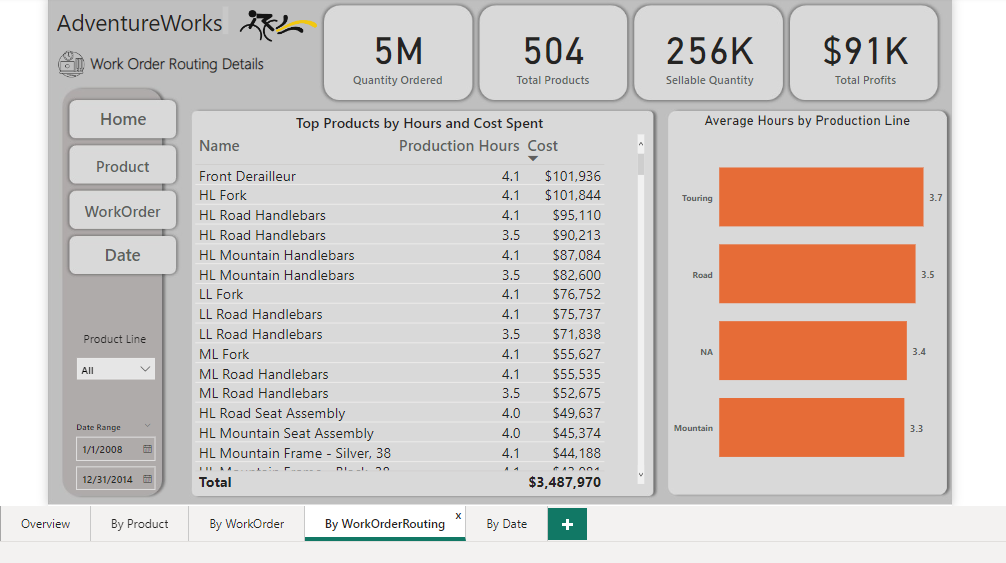

What the dashboard file says about the page in this screenshot:
{"tool":"powerbi","page":{"name":"By WorkOrderRouting","canvas":[1280,720],"ordinal":3},"visuals":[{"type":"tableEx","title":"Top Products by Hours and Cost Spent","fields":{"Values":["Production_Product.Name","Production_WorkOrderRouting.ActualResourceHrs","Sum(Production_WorkOrderRouting.ActualCost)"]},"box":[202.3,162.7,646.4,540.4],"z":0},{"type":"clusteredBarChart","title":"Average Hours by Production Line","fields":{"Category":["Production_Product.ProductLine"],"Y":["Avg(Production_WorkOrderRouting.ActualResourceHrs)"]},"box":[878.4,162.7,391.8,540.4],"z":1000},{"type":"textbox","box":[43.9,73.6,277.2,41],"z":2000},{"type":"card","fields":{"Values":["All Mesures.Total Units"]},"box":[609.7,8.5,209.4,141.5],"z":3000},{"type":"card","fields":{"Values":["All Mesures.Total Profits"]},"box":[1052.4,8.5,207.9,141.5],"z":4000},{"type":"card","fields":{"Values":["Sum(Production_WorkOrder.OrderQty)"]},"box":[390.4,8.5,209.4,141.5],"z":5000},{"type":"card","fields":{"Values":["All Measures.Sold Qty"]},"box":[828.9,8.5,213.6,141.5],"z":6000},{"type":"textbox","box":[7.1,8.5,253.2,50.9],"z":7000},{"type":"image","box":[260.3,8.5,127.3,65.1],"z":8000},{"type":"image","box":[0,69.3,66.5,50.9],"z":9000},{"type":"actionButton","title":"Active P","box":[31.1,140,149.9,62.2],"z":10000},{"type":"actionButton","title":"Active WO","box":[35.4,212.2,140,52.3],"z":11000},{"type":"actionButton","title":"Active WOR","box":[35.4,275.8,140,52.3],"z":12000},{"type":"actionButton","title":"Actice D","box":[35.4,333.8,140,59.4],"z":13000},{"type":"slicer","fields":{"Values":["Calendar.Date"]},"box":[26.9,594.1,131.6,110.3],"z":14000},{"type":"slicer","title":"Filter by Product Line","fields":{"Values":["Production_Product.ProductLine"]},"box":[31.1,500.7,130.1,53.8],"z":15000},{"type":"textbox","box":[26.9,464,130.1,36.8],"z":16000}]}

Visuals, with their boxes on the page's 1280x720 design canvas (x1, y1, x2, y2). These are canvas units, not pixel positions in the 1006x563 screenshot, which may show the page scaled, cropped or inside an application window:
"Top Products by Hours and Cost Spent" tableEx: (x1=202, y1=163, x2=849, y2=703)
"Average Hours by Production Line" clusteredBarChart: (x1=878, y1=163, x2=1270, y2=703)
textbox: (x1=44, y1=74, x2=321, y2=115)
card - All Mesures.Total Units: (x1=610, y1=8, x2=819, y2=150)
card - All Mesures.Total Profits: (x1=1052, y1=8, x2=1260, y2=150)
card - Sum(Production_WorkOrder.OrderQty): (x1=390, y1=8, x2=600, y2=150)
card - All Measures.Sold Qty: (x1=829, y1=8, x2=1042, y2=150)
textbox: (x1=7, y1=8, x2=260, y2=59)
image: (x1=260, y1=8, x2=388, y2=74)
image: (x1=0, y1=69, x2=66, y2=120)
"Active P" actionButton: (x1=31, y1=140, x2=181, y2=202)
"Active WO" actionButton: (x1=35, y1=212, x2=175, y2=264)
"Active WOR" actionButton: (x1=35, y1=276, x2=175, y2=328)
"Actice D" actionButton: (x1=35, y1=334, x2=175, y2=393)
slicer - Calendar.Date: (x1=27, y1=594, x2=158, y2=704)
"Filter by Product Line" slicer: (x1=31, y1=501, x2=161, y2=554)
textbox: (x1=27, y1=464, x2=157, y2=501)
